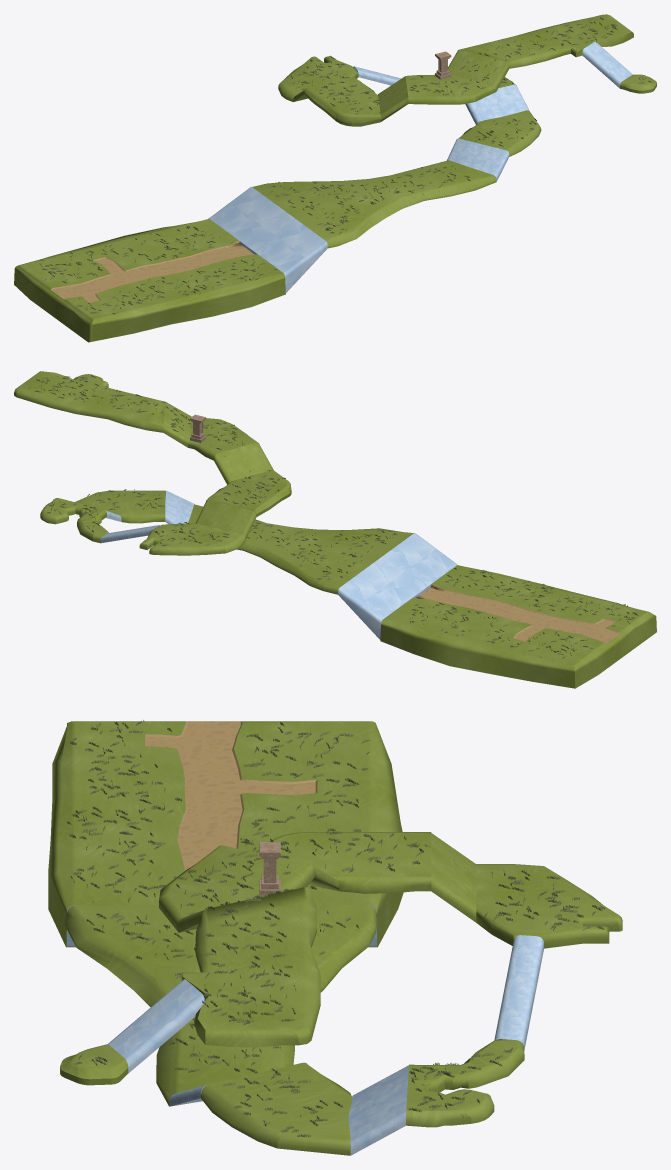
File: Map_02.fbx
The picture shows the model from 3 angles, top to bottom: view 1: azimuth 30°, elevation 25°; view 2: azimuth 150°, elevation 25°; view 3: azimuth 270°, elevation 25°; orthographic projection. The views are drawn at different scales.
Visible parts, largest first — view 1: Floor_01.frozen, Floor_02.frozen, Stairs_01.frozen, Floor_07.frozen, 0.002, Floor_05.frozen, Floor_06.frozen, Floor_04.frozen, Staris_07.frozen, Stairs_02.frozen, Stairs_03.frozen, Staris_08.frozen (+2 smaller); view 2: Floor_01.frozen, Floor_02.frozen, Stairs_01.frozen, Floor_07.frozen, 0.002, Floor_04.frozen, Floor_05.frozen, Floor_03.frozen, Staris_06, Floor_06.frozen, Stairs_05.frozen, Staris_07.frozen (+2 smaller); view 3: Floor_01.frozen, Floor_02.frozen, Floor_07.frozen, 0.002, Floor_04.frozen, Floor_05.frozen, Floor_03.frozen, Floor_06.frozen, Staris_08.frozen, Stairs_03.frozen, Stairs_04.frozen, Stairs_05.frozen (+2 smaller).
Part boxes in pixels (x1,y1,x2,y2): Floor_01.frozen: (14,219,285,342); Floor_02.frozen: (252,110,541,248); Stairs_01.frozen: (208,186,327,292); Floor_07.frozen: (460,14,633,68); 0.002: (38,17,651,314); Floor_05.frozen: (304,77,380,126); Floor_06.frozen: (405,74,496,104); Floor_04.frozen: (278,56,358,101); Staris_07.frozen: (448,49,509,91); Stairs_02.frozen: (447,138,509,181); Stairs_03.frozen: (465,84,529,124); Staris_08.frozen: (582,41,632,88); Floor_01.frozen: (380,565,656,688); Floor_02.frozen: (75,490,413,594); Stairs_01.frozen: (338,533,457,639); Floor_07.frozen: (14,371,165,432); 0.002: (28,374,638,659); Floor_04.frozen: (139,523,244,555); Floor_05.frozen: (206,470,291,516); Floor_03.frozen: (40,498,108,543); Staris_06: (213,442,273,484); Floor_06.frozen: (188,418,257,460); Stairs_05.frozen: (195,499,256,540); Staris_07.frozen: (163,402,191,447); Floor_01.frozen: (48,721,403,947); Floor_02.frozen: (65,905,376,1155); Floor_07.frozen: (181,887,320,1047); 0.002: (67,720,605,1137); Floor_04.frozen: (476,864,622,948); Floor_05.frozen: (255,832,431,893); Floor_03.frozen: (406,1039,524,1127); Floor_06.frozen: (159,845,314,932); Staris_08.frozen: (108,979,204,1073); Stairs_03.frozen: (348,1065,408,1155); Stairs_04.frozen: (494,935,543,1049); Stairs_05.frozen: (431,833,476,922).
Size of the model in its own units: 5994 by 1491 by 2558.
